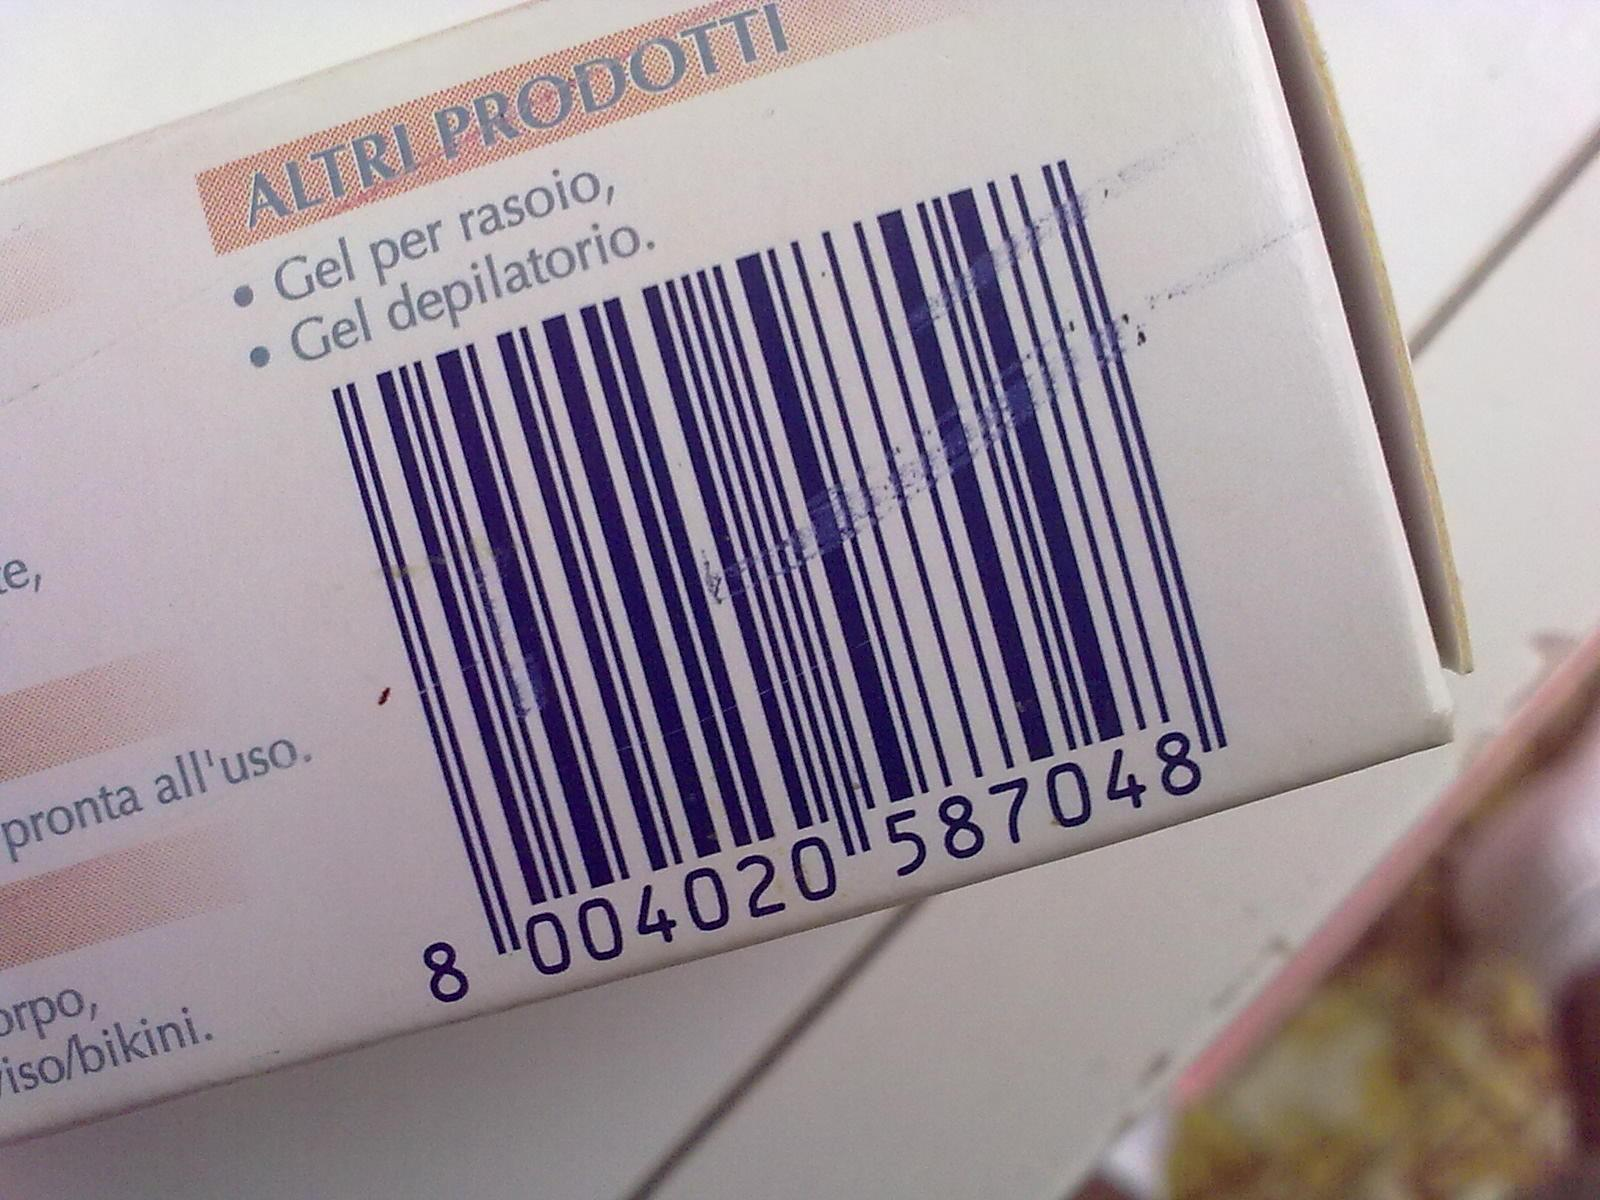barcode: (319, 153, 1246, 1013)
